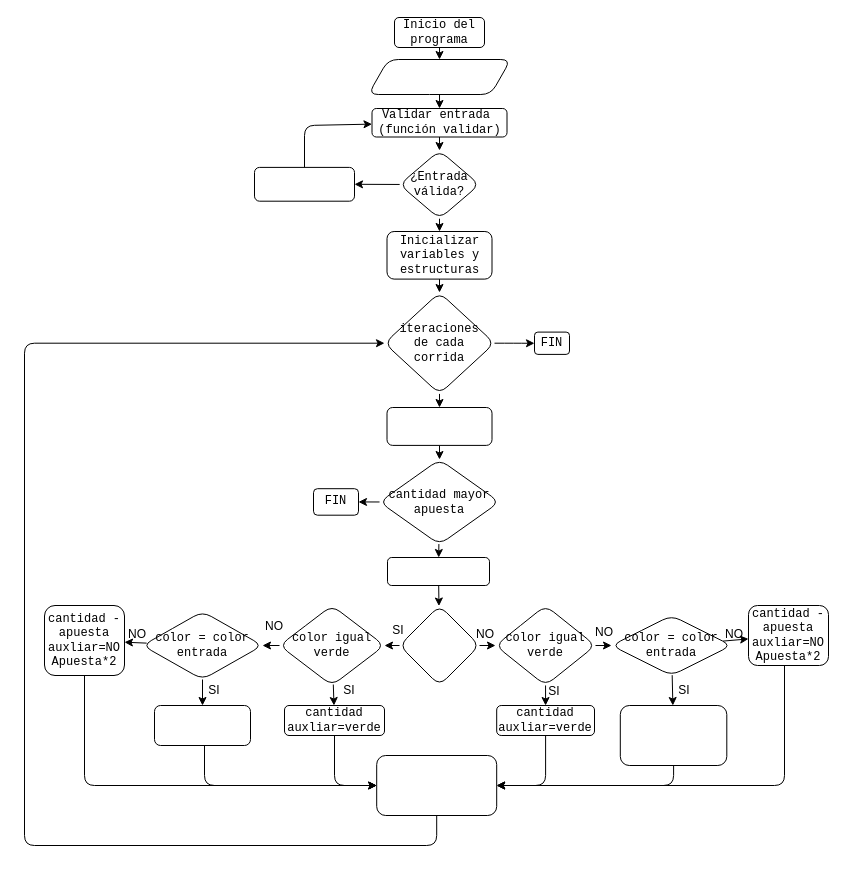
The diagram is 846 pixels wide and 871 high, and some of its shapes have lost their labels. The shapes that lost their labels are listed below. From the top down, each one's centre as x and y in pixels, then its label:
At (x=439, y=76): "Obtener valores de entrada".
At (x=304, y=183): "Volver a pedir datos".
At (x=439, y=425): "generar numero aleatorio".
At (x=438, y=571): "obtener color".
At (x=439, y=645): "auxiliar es verde".
At (x=202, y=725): "cantidad auxliar=SI Apuesta".
At (x=673, y=735): "cantidad + apuesta auxliar=NO Apuesta".
At (x=436, y=785): "Agregar los datos de la iteracion y actualizar datos".
